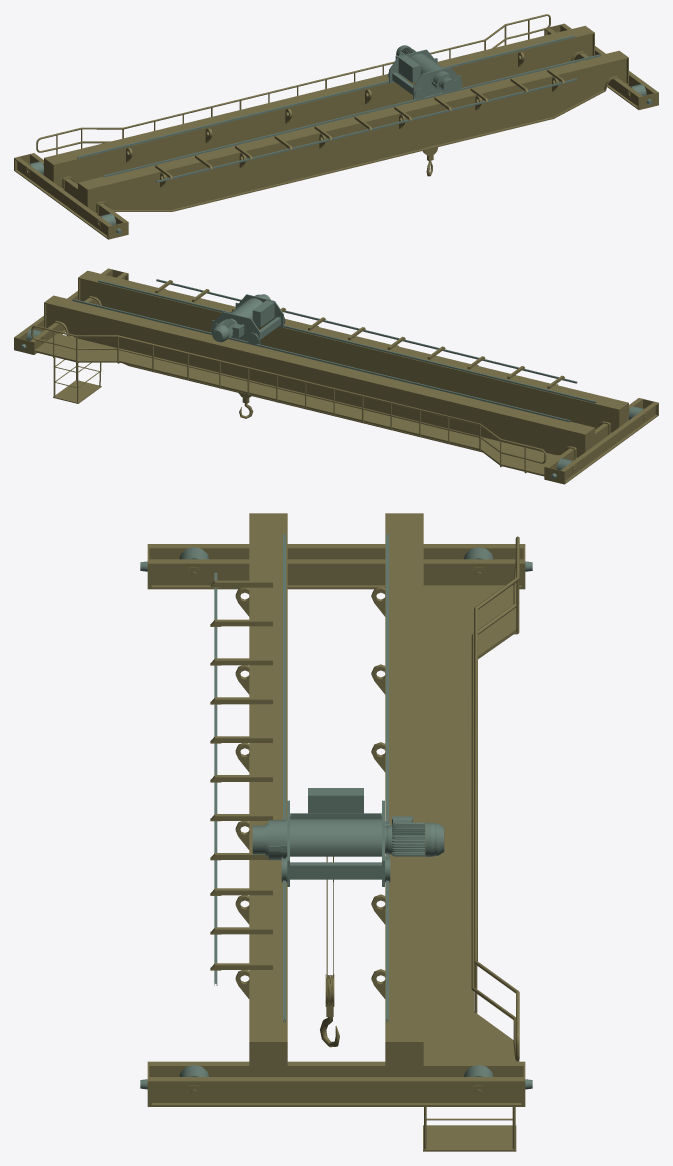
File: SM05_Industrial_OverheadCrane_02.fbx
3 views of the same model, one above another, from view 1: azimuth 30°, elevation 25°; view 2: azimuth 150°, elevation 25°; view 3: azimuth 270°, elevation 25° (orthographic). The views are drawn at different scales.
Parts seen in each view (by area): view 1: SM05_Industrial_OverheadCrane_02, SM05_Industrial_OverheadCrane_02_Hoist; view 2: SM05_Industrial_OverheadCrane_02, SM05_Industrial_OverheadCrane_02_Hoist; view 3: SM05_Industrial_OverheadCrane_02, SM05_Industrial_OverheadCrane_02_Hoist.
Part boxes in pixels (left/top/right/bottom): SM05_Industrial_OverheadCrane_02: left=14, top=14, right=658, bottom=239; SM05_Industrial_OverheadCrane_02_Hoist: left=388, top=45, right=462, bottom=100; SM05_Industrial_OverheadCrane_02: left=14, top=268, right=658, bottom=484; SM05_Industrial_OverheadCrane_02_Hoist: left=210, top=294, right=285, bottom=344; SM05_Industrial_OverheadCrane_02: left=140, top=513, right=532, bottom=1151; SM05_Industrial_OverheadCrane_02_Hoist: left=252, top=788, right=444, bottom=886.
Size of the model in its own units: 1300 by 267 by 401.
